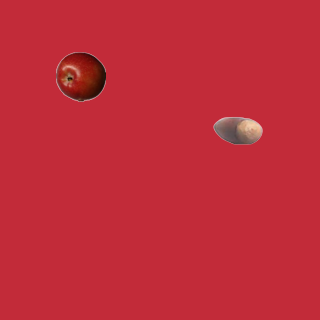Apple Braeburn: (55, 51, 105, 101)
Hazelnut: (212, 105, 262, 155)
